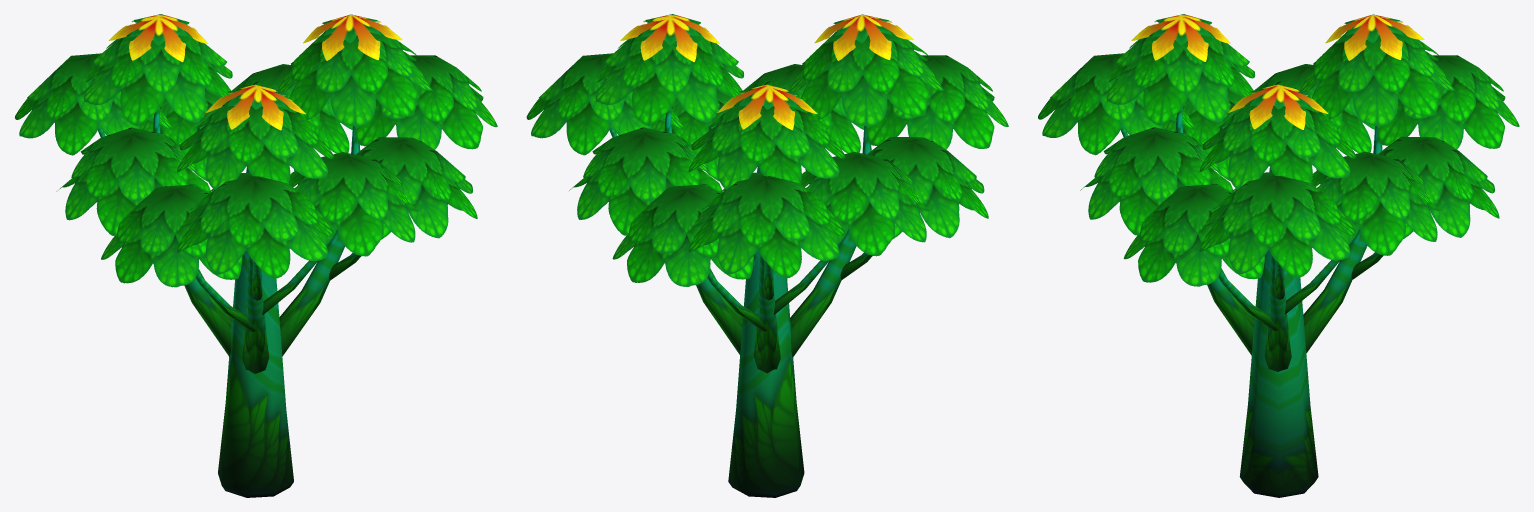
The model's file is Green_Tree_05c.FBX.
3 renders of one model, left to right at view 1: azimuth 30°, elevation 25°; view 2: azimuth 150°, elevation 25°; view 3: azimuth 270°, elevation 25°, orthographic.
Parts seen in each view (by area): view 1: Green_Tree_05c; view 2: Green_Tree_05c; view 3: Green_Tree_05c.
Part boxes in pixels (left/top/right/bottom): Green_Tree_05c: left=15, top=14, right=497, bottom=497; Green_Tree_05c: left=526, top=14, right=1008, bottom=497; Green_Tree_05c: left=1038, top=14, right=1519, bottom=497.
Size of the model in its own units: 383 by 378 by 372.
